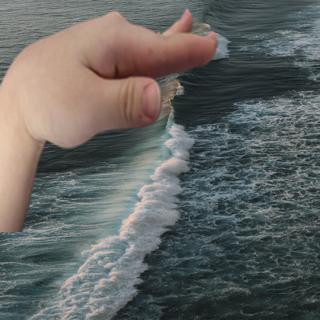Wait: (5, 5, 225, 153)
